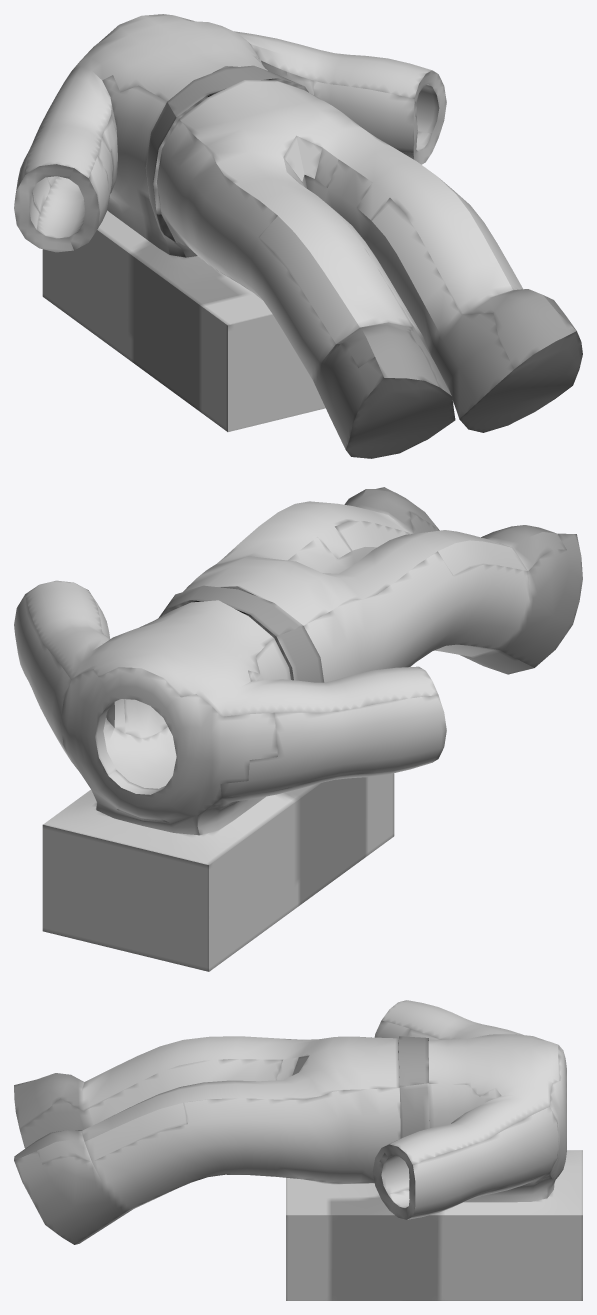
File: Spacesuit.fbx
The picture shows the model from 3 angles, top to bottom: view 1: azimuth 30°, elevation 25°; view 2: azimuth 150°, elevation 25°; view 3: azimuth 270°, elevation 25°; orthographic projection. The views are drawn at different scales.
Parts seen in each view (by area): view 1: Spacesuit; view 2: Spacesuit; view 3: Spacesuit.
Boxes of the visible parts, x1,y1,x2,y2 form: Spacesuit: (14,14,582,458); Spacesuit: (14,487,582,971); Spacesuit: (14,1000,582,1300).
Bounding box in the file's own units: 210 × 130 × 298.
